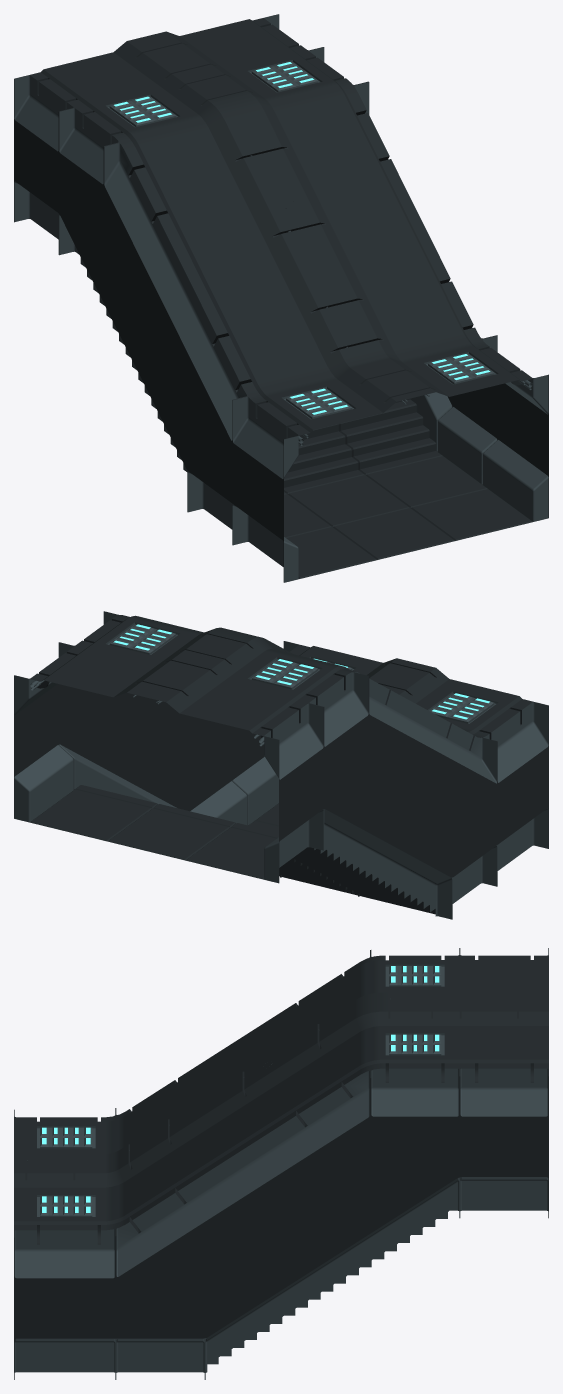
The model's file is hallwayStairs02.fbx.
3 renders of one model, top to bottom at view 1: azimuth 30°, elevation 25°; view 2: azimuth 150°, elevation 25°; view 3: azimuth 270°, elevation 25°, orthographic.
Visible parts, largest first — view 1: hallwayStairs02; view 2: hallwayStairs02; view 3: hallwayStairs02.
Boxes of the visible parts, x1=… form: hallwayStairs02: x1=14, y1=14, x2=548, y2=582; hallwayStairs02: x1=14, y1=611, x2=548, y2=919; hallwayStairs02: x1=14, y1=948, x2=548, y2=1379.
Size of the model in its own units: 6.8 by 12 by 7.77.
